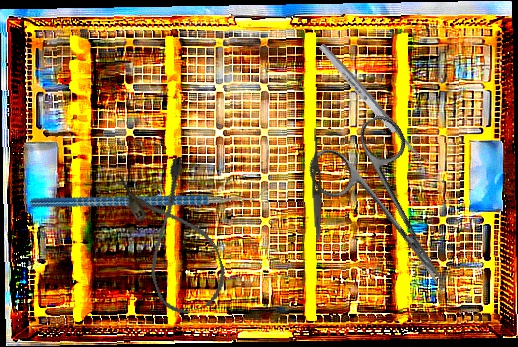Cannula: (118, 155, 234, 320)
Chopper: (28, 115, 274, 276)
Dressing Forceps: (310, 126, 323, 241)
Iris Scissors: (300, 109, 481, 312)
Surgical Spoon: (317, 41, 430, 170)
